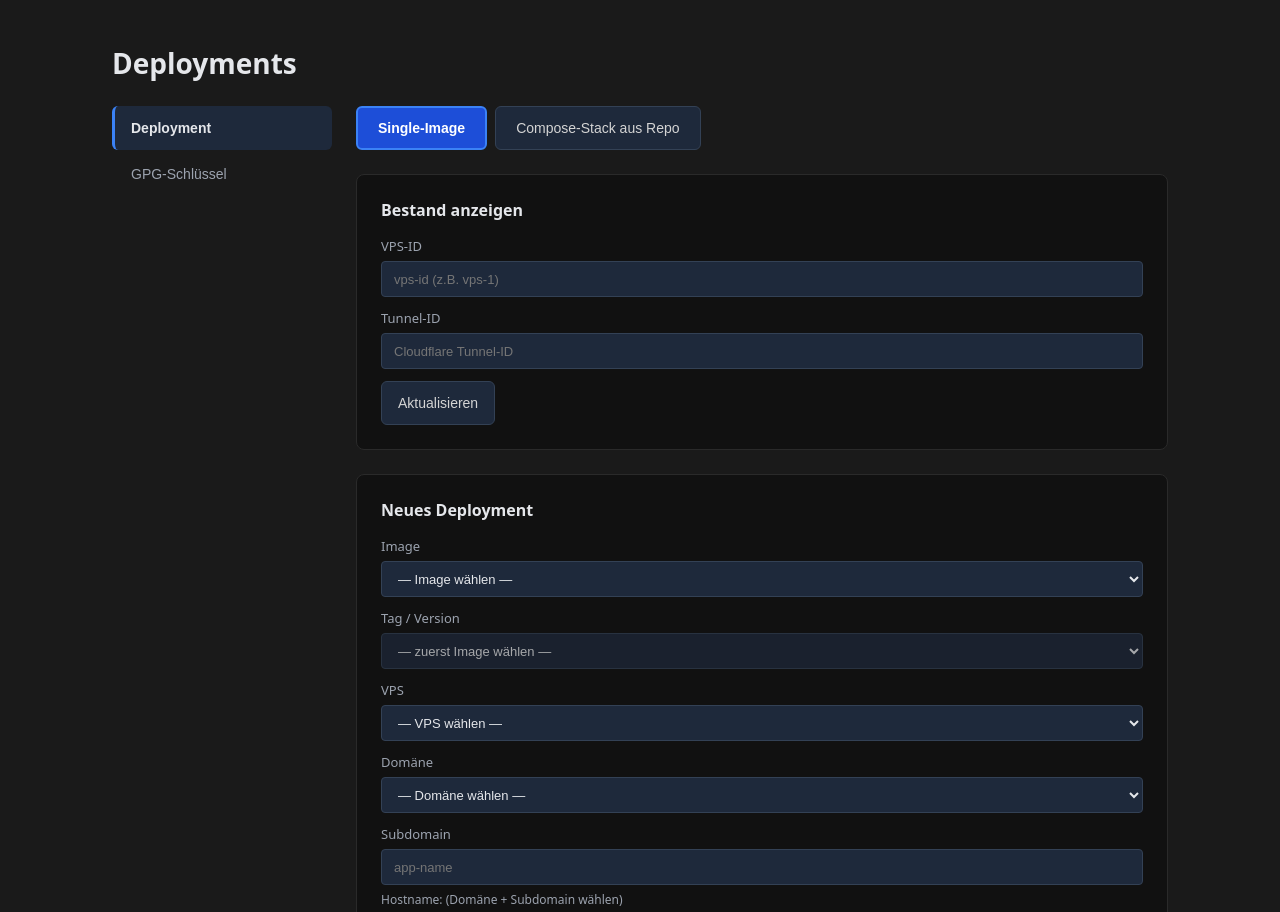
Scenario: DeploymentsView — AC12: Deploy-Button activation › Deploy button disabled when subdomain is cleared
This screenshot has width=1280, height=912.
Select "brew-assistent" in the dropdown with id "deploy-image-select" at (762, 579), box left=381, top=561, right=1143, bottom=597
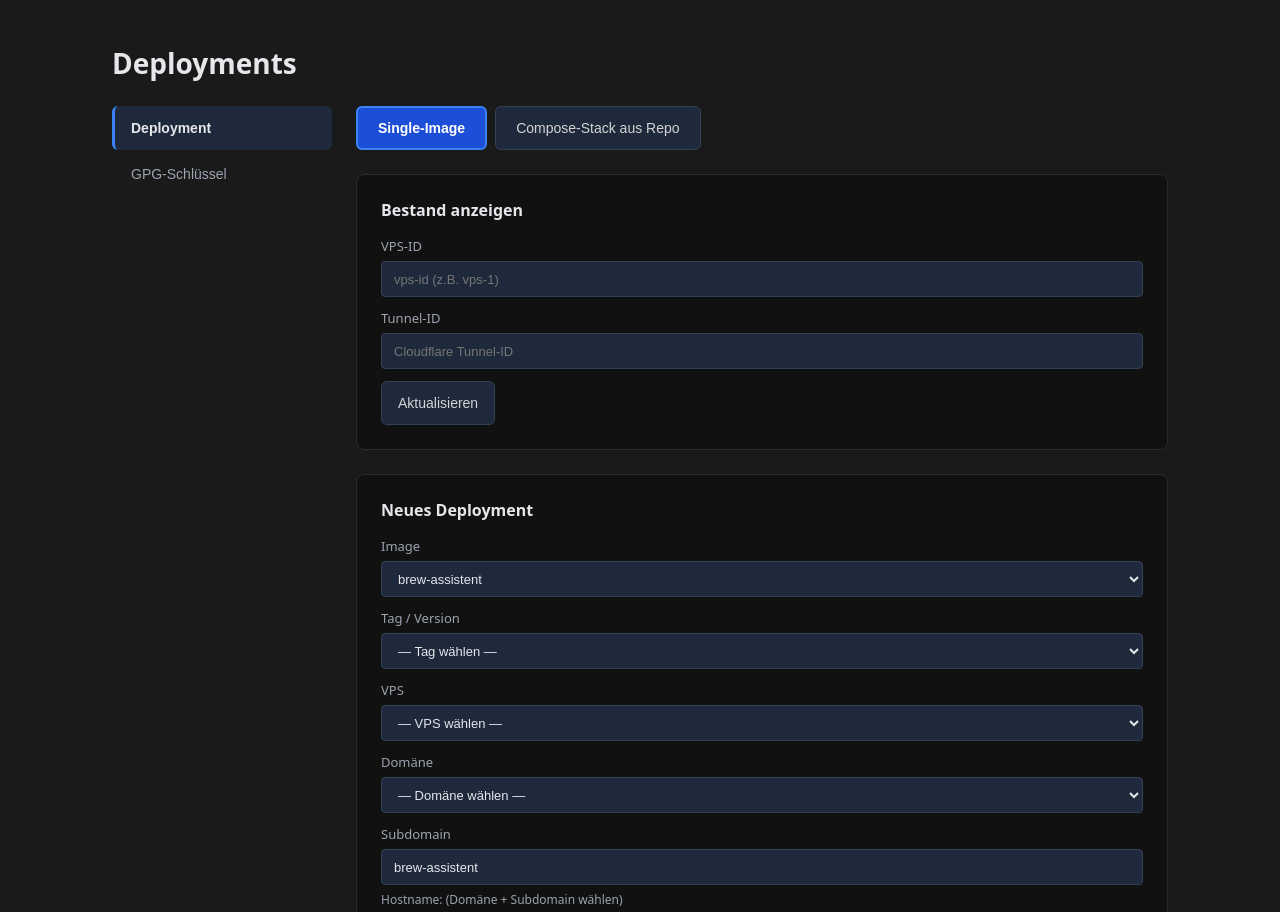
Select "v1.0.0" in the dropdown with id "deploy-tag-select" at (762, 651), box left=381, top=633, right=1143, bottom=669
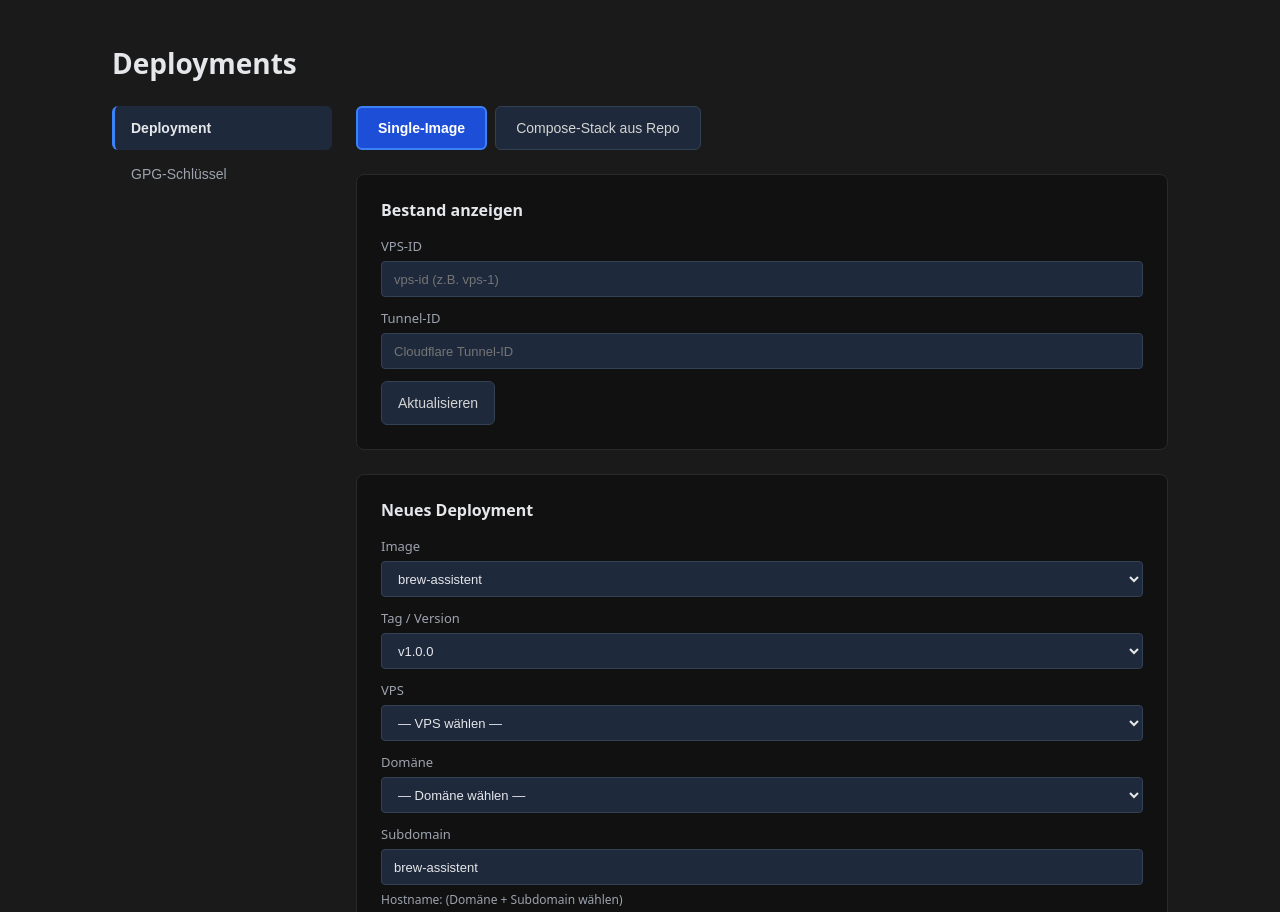
Select "vps-1" in the dropdown with id "deploy-vps-select" at (762, 723), box left=381, top=705, right=1143, bottom=741
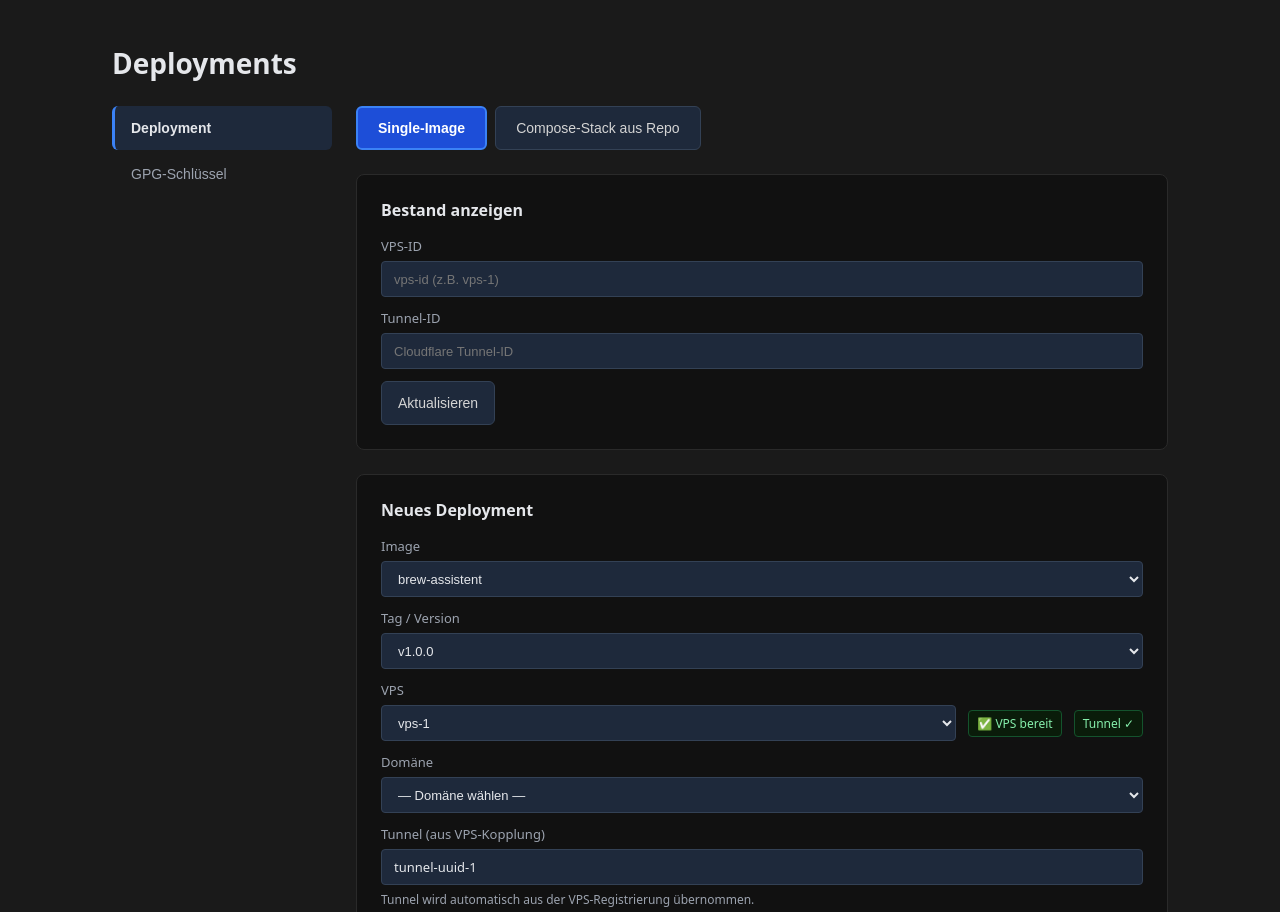
Select "alexstuder.cloud" in the dropdown with id "deploy-zone-select" at (762, 795), box left=381, top=777, right=1143, bottom=813
(page scrolled)
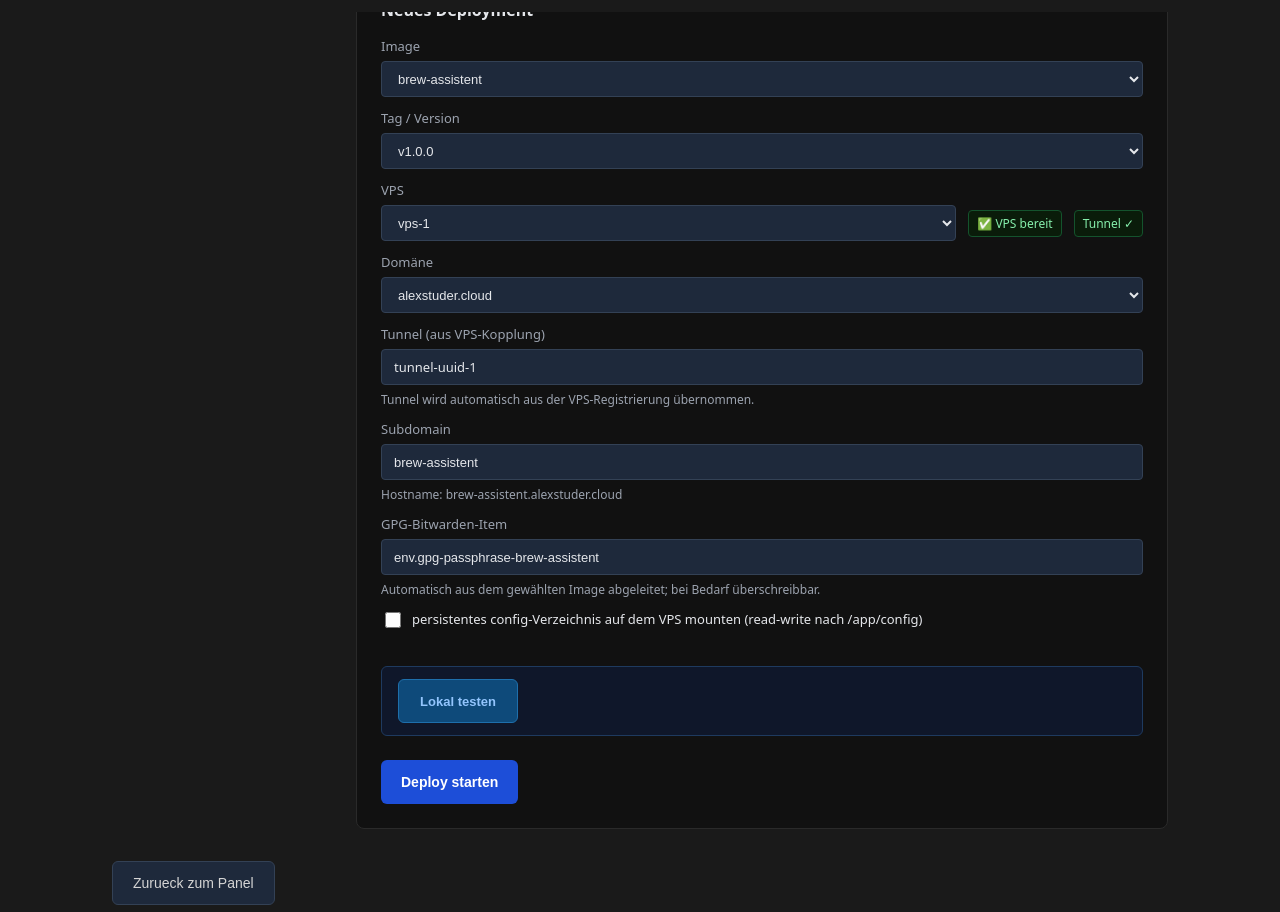
Check: the message "Tunnel ✓" is shown, box left=1074, top=210, right=1143, bottom=236
Clear the field with id "deploy-subdomain" at (762, 462), box left=381, top=444, right=1143, bottom=480
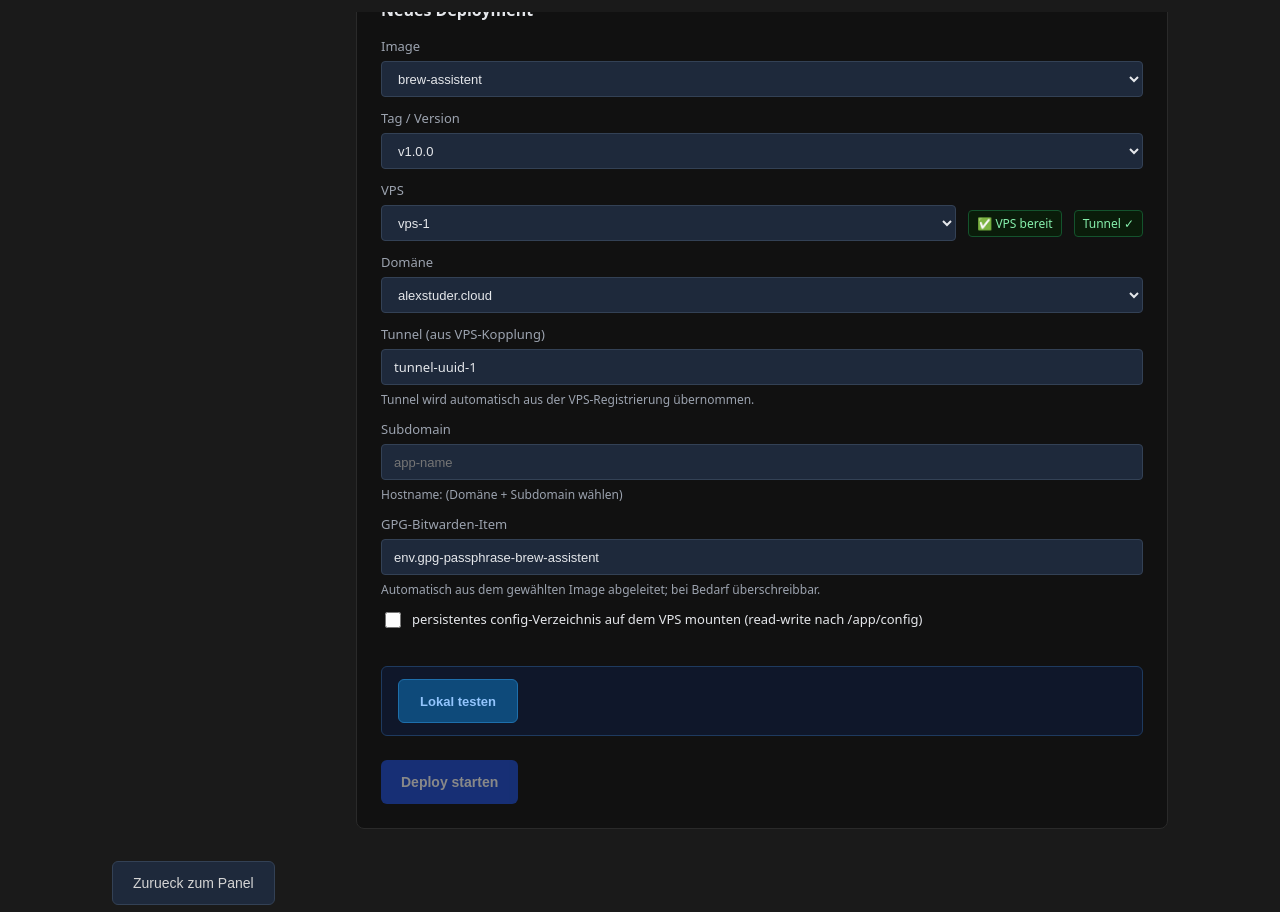
Check: the button "Deploy starten" is disabled, box left=381, top=760, right=518, bottom=804
